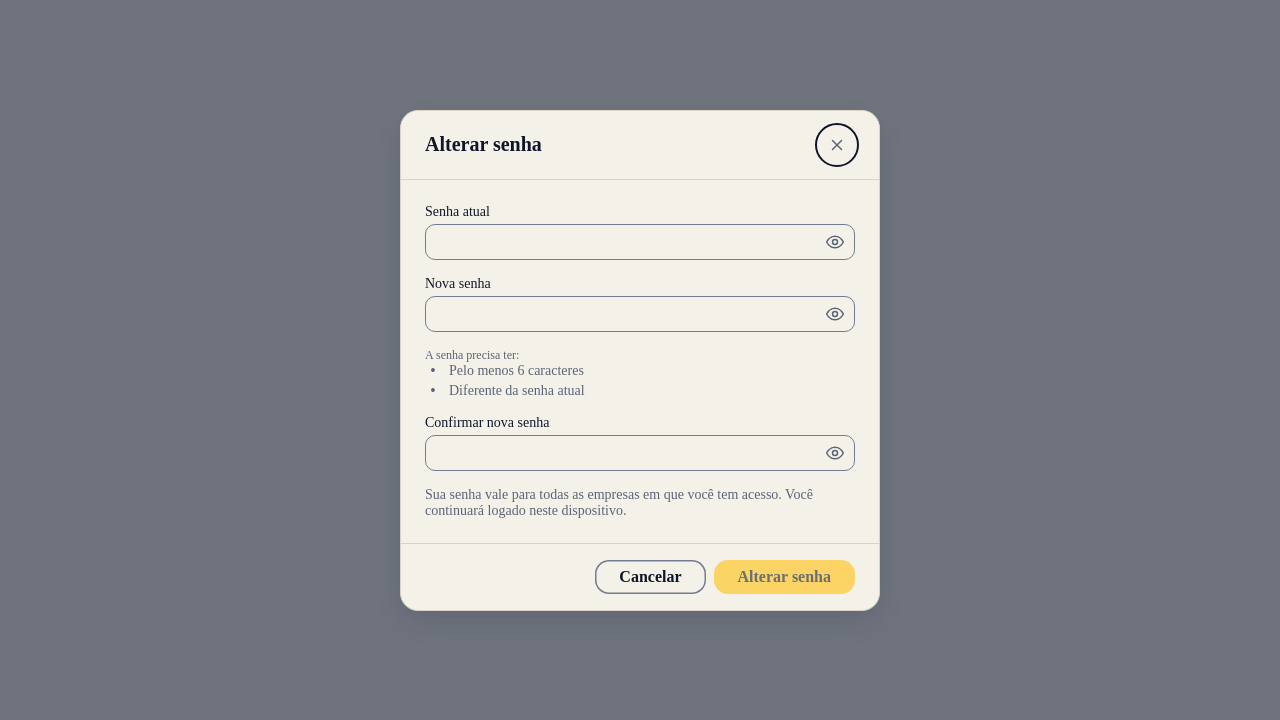
Test: AlterarSenhaModal › senha atual incorreta (401) vira erro do campo e preserva os outros valores
This screenshot has width=1280, height=720.
Type "antiga1" into the password field labelled "Senha atual" at (640, 242), box [425, 224, 855, 260]
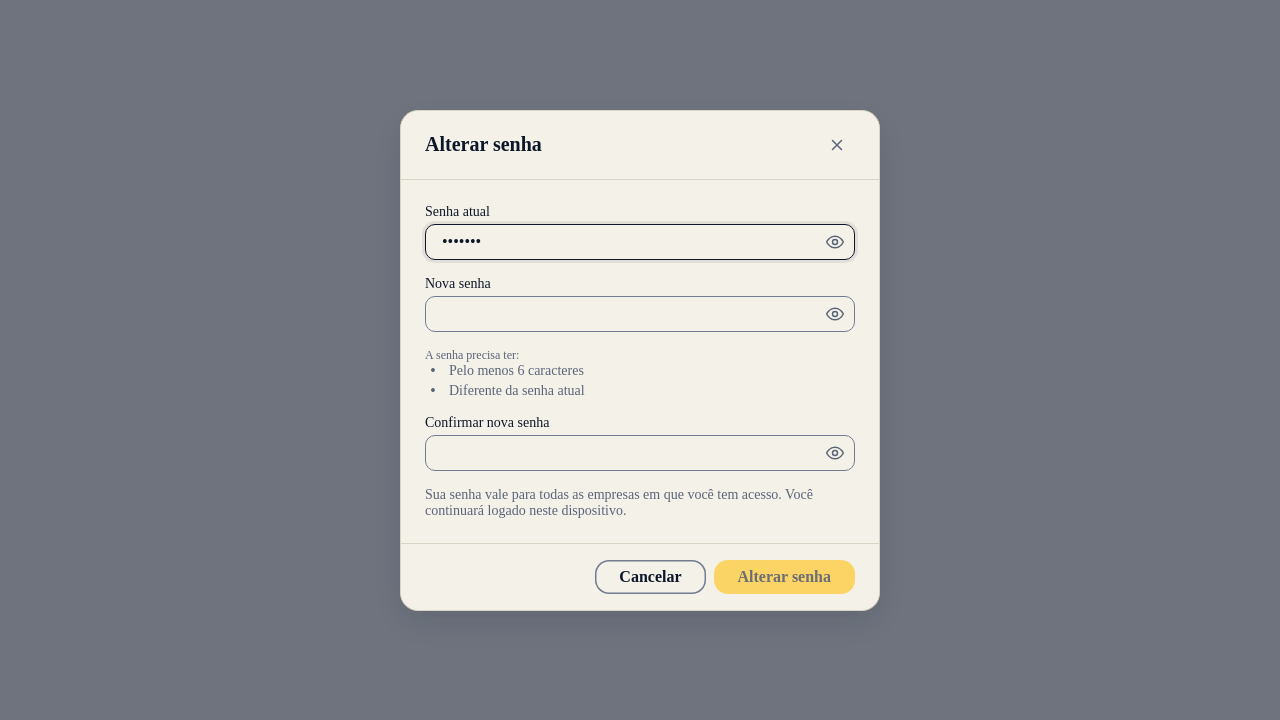
Type "nova123" into the password field labelled "Nova senha" at (640, 314), box [425, 296, 855, 332]
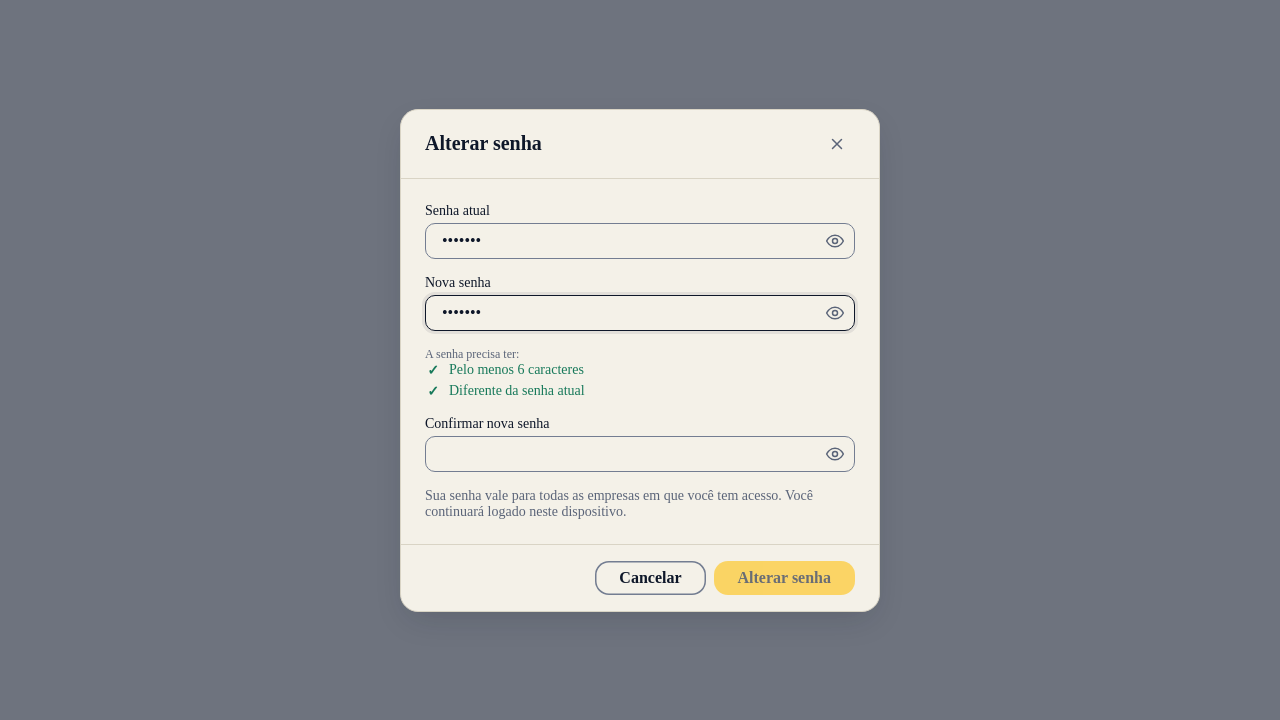
Type "nova123" into the password field labelled "Confirmar nova senha" at (640, 454), box [425, 436, 855, 472]
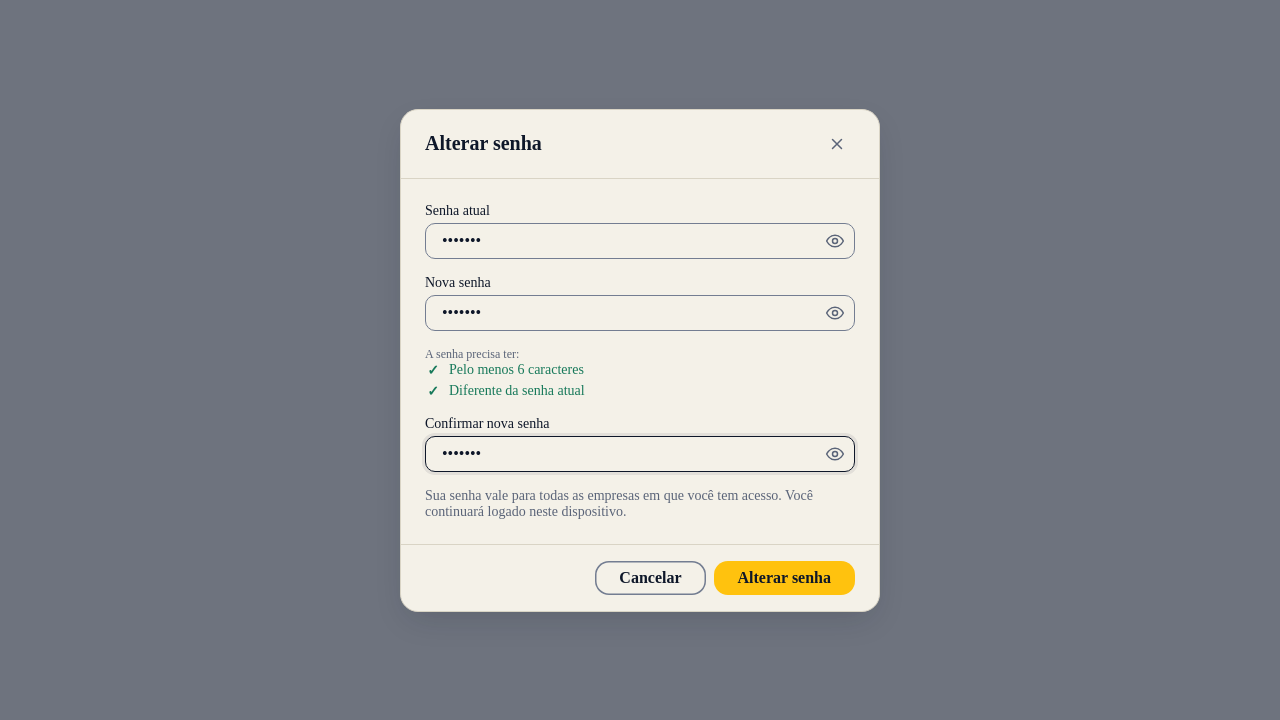
Click the button "Alterar senha" at (784, 578), box [714, 560, 855, 594]
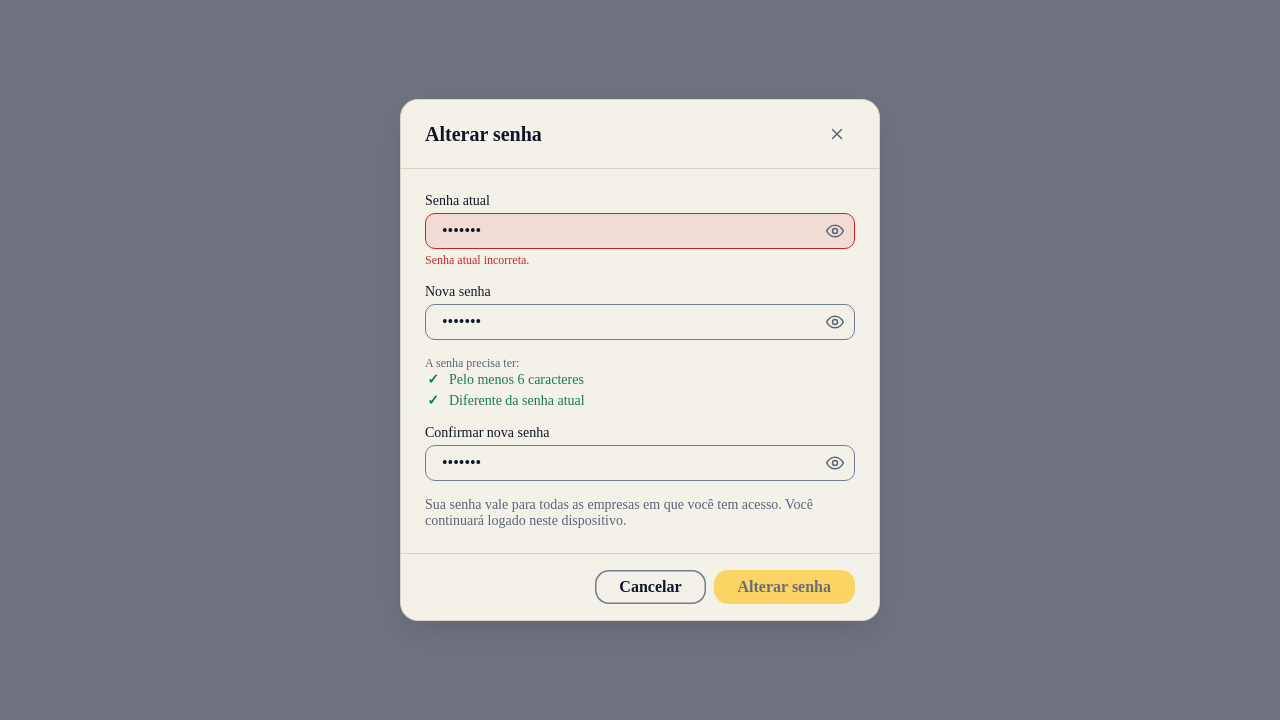
Expected: the text "Senha atual incorreta." is shown, [425, 253, 529, 267]
